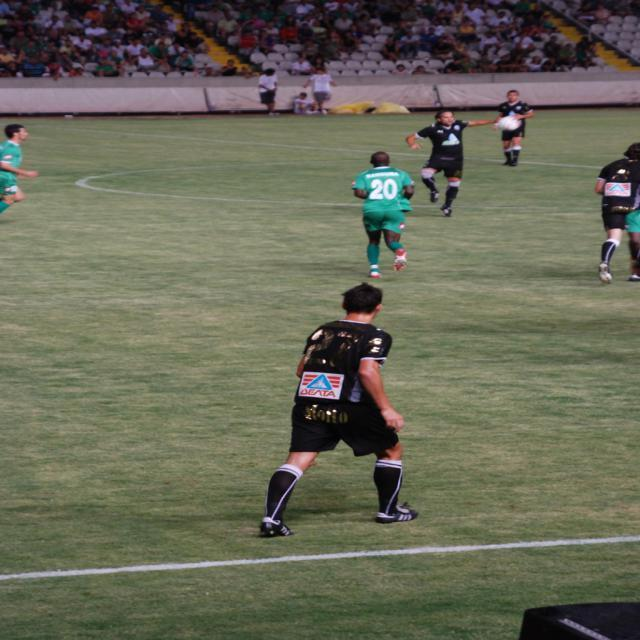ball: (495, 117, 519, 131)
